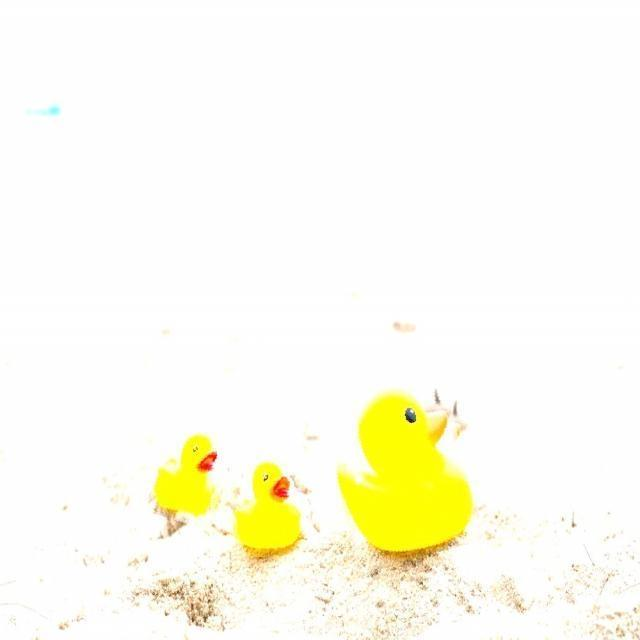rubber-duck: (337, 392, 470, 550), (234, 461, 299, 552), (153, 434, 215, 514)
